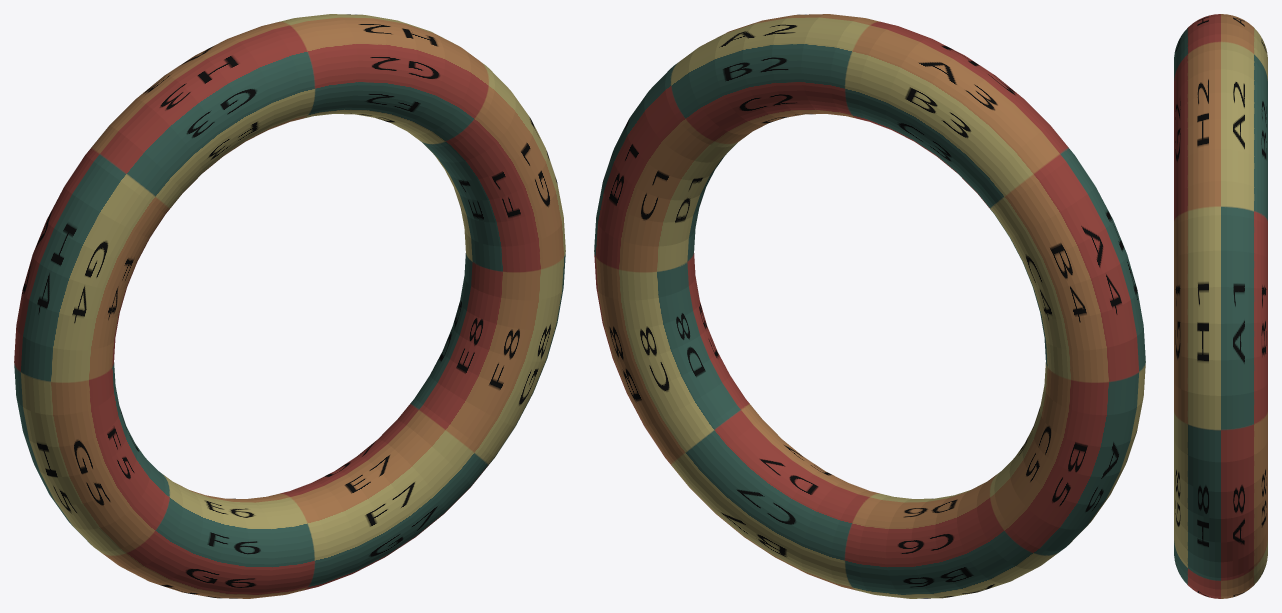
Rendered from texture_torus_R9_r4.glb.
3 renders of one model, left to right at view 1: azimuth 30°, elevation 25°; view 2: azimuth 150°, elevation 25°; view 3: azimuth 270°, elevation 25°, orthographic. The views are drawn at different scales.
Parts seen in each view (by area): view 1: world; view 2: world; view 3: world.
Part boxes in pixels (bbox=[...]): world: bbox=[14, 14, 565, 598]; world: bbox=[594, 14, 1145, 598]; world: bbox=[1174, 14, 1267, 598].
Size of the model in its own units: 19.07 by 19.03 by 3.06.
Materials: 1 (1 with a texture image).
